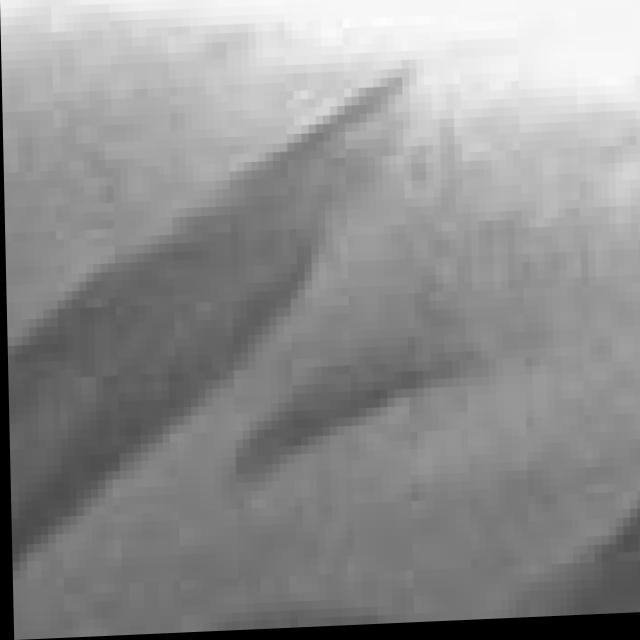fracture: (4, 0, 640, 634)
